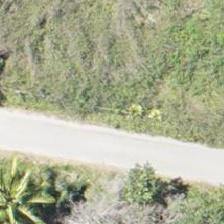coconut_tree: (0, 157, 51, 223)
